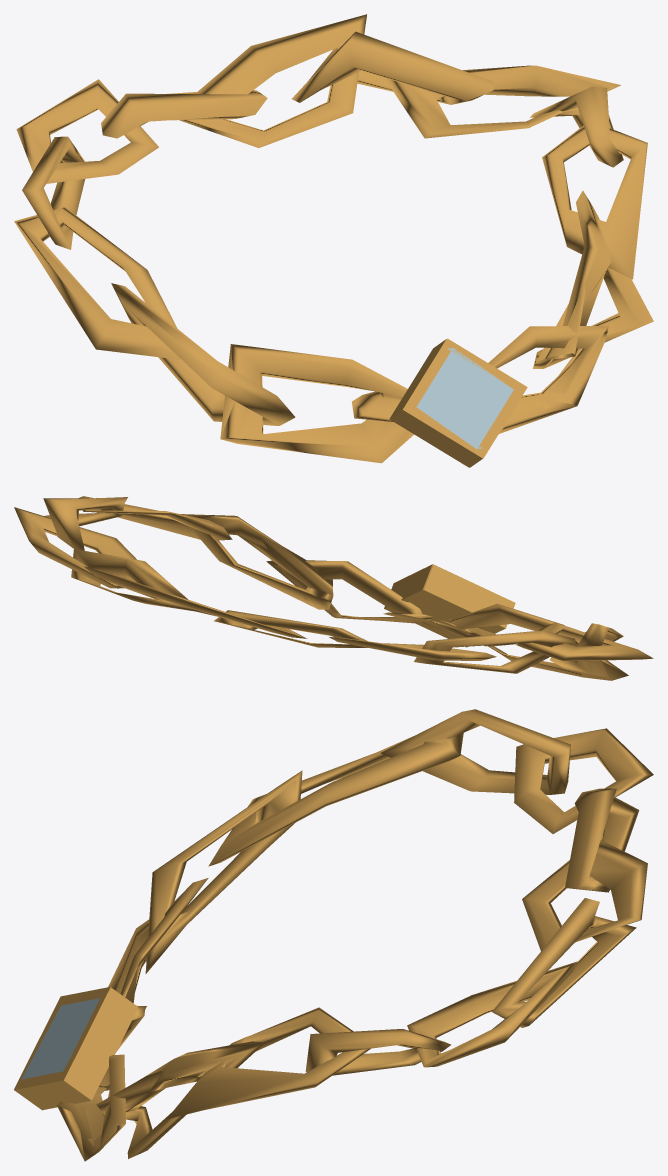
File: diamondNecklace.glb
3 views of the same model, one above another, from view 1: azimuth 30°, elevation 25°; view 2: azimuth 150°, elevation 25°; view 3: azimuth 270°, elevation 25° (orthographic). The views are drawn at different scales.
Visible parts, largest first — view 1: diamond; view 2: diamond; view 3: diamond.
Part boxes in pixels (x1,y1,x2,y2): diamond: (14,14,653,467); diamond: (14,496,653,680); diamond: (14,709,653,1161).
Size of the model in its own units: 0.1591 by 0.0596 by 0.1244.
1 material, 1 textured.
